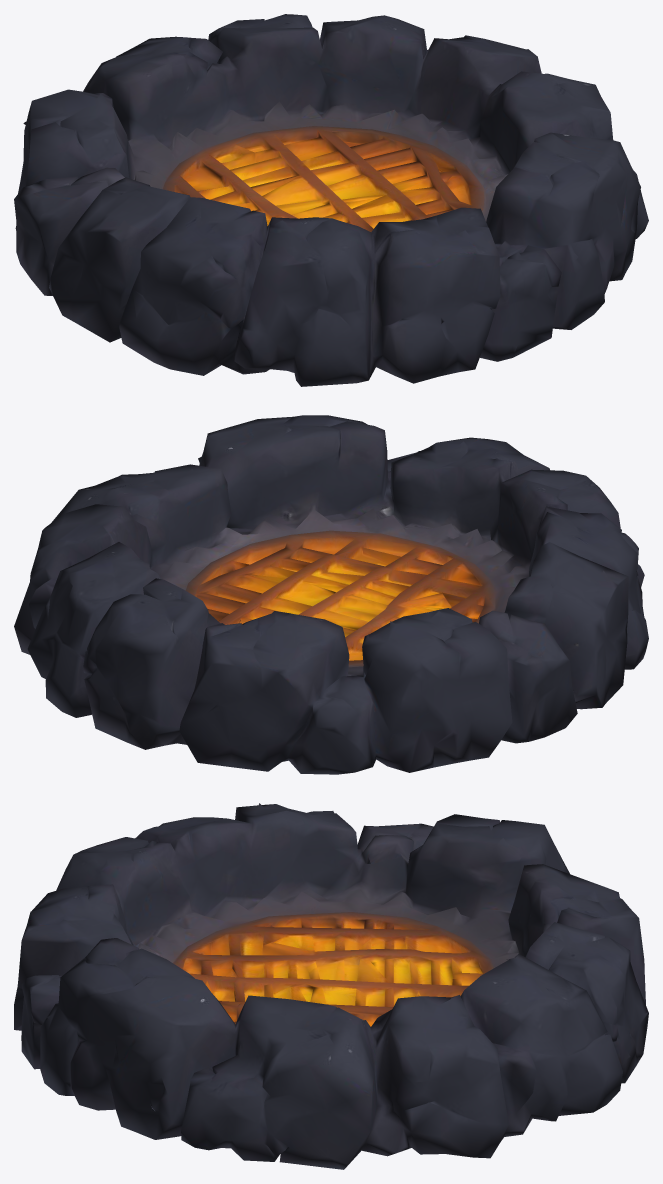
Rendered from steam_vent.glb.
The picture shows the model from 3 angles, top to bottom: view 1: azimuth 30°, elevation 25°; view 2: azimuth 150°, elevation 25°; view 3: azimuth 270°, elevation 25°; orthographic projection. The views are drawn at different scales.
Parts seen in each view (by area): view 1: tripo_node_ef3833fa-3a5a-48dc-9746-9c902c907acb; view 2: tripo_node_ef3833fa-3a5a-48dc-9746-9c902c907acb; view 3: tripo_node_ef3833fa-3a5a-48dc-9746-9c902c907acb.
Boxes of the visible parts, x1=… form: tripo_node_ef3833fa-3a5a-48dc-9746-9c902c907acb: x1=14, y1=14, x2=648, y2=386; tripo_node_ef3833fa-3a5a-48dc-9746-9c902c907acb: x1=14, y1=415, x2=648, y2=774; tripo_node_ef3833fa-3a5a-48dc-9746-9c902c907acb: x1=14, y1=803, x2=648, y2=1169.
Size of the model in its own units: 1 by 0.2425 by 0.9974.
Materials: 1 (1 with a texture image).
